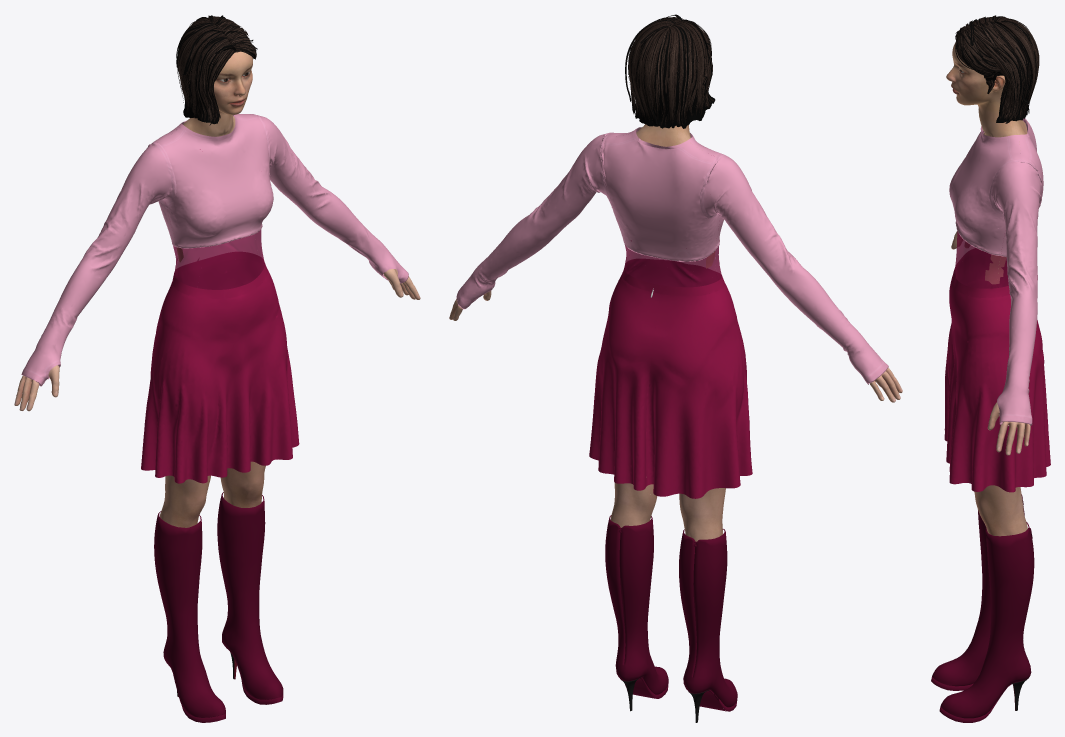
3 views of the same model, side by side, from view 1: azimuth 30°, elevation 25°; view 2: azimuth 150°, elevation 25°; view 3: azimuth 270°, elevation 25° (orthographic). The views are drawn at different scales.
Visible parts, largest first — view 1: Cloth, Avatar; view 2: Cloth, Avatar; view 3: Cloth, Avatar.
Boxes of the visible parts, bbox=[...] form: Cloth: bbox=[21, 114, 408, 483]; Avatar: bbox=[14, 15, 420, 722]; Cloth: bbox=[456, 127, 888, 498]; Avatar: bbox=[449, 14, 902, 722]; Cloth: bbox=[944, 118, 1050, 492]; Avatar: bbox=[931, 15, 1039, 722].
Bounding box in the file's own units: 1.09 × 1.69 × 0.2691.
Materials: 16 (14 with a texture image).
